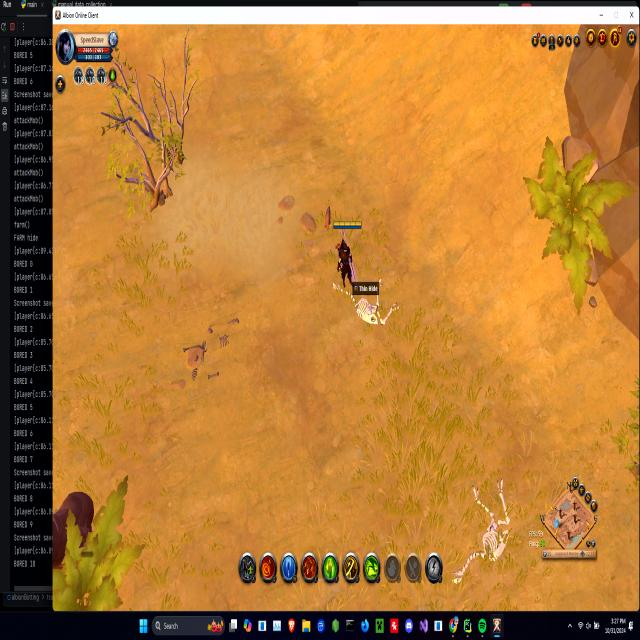red: (332, 216, 362, 296)
